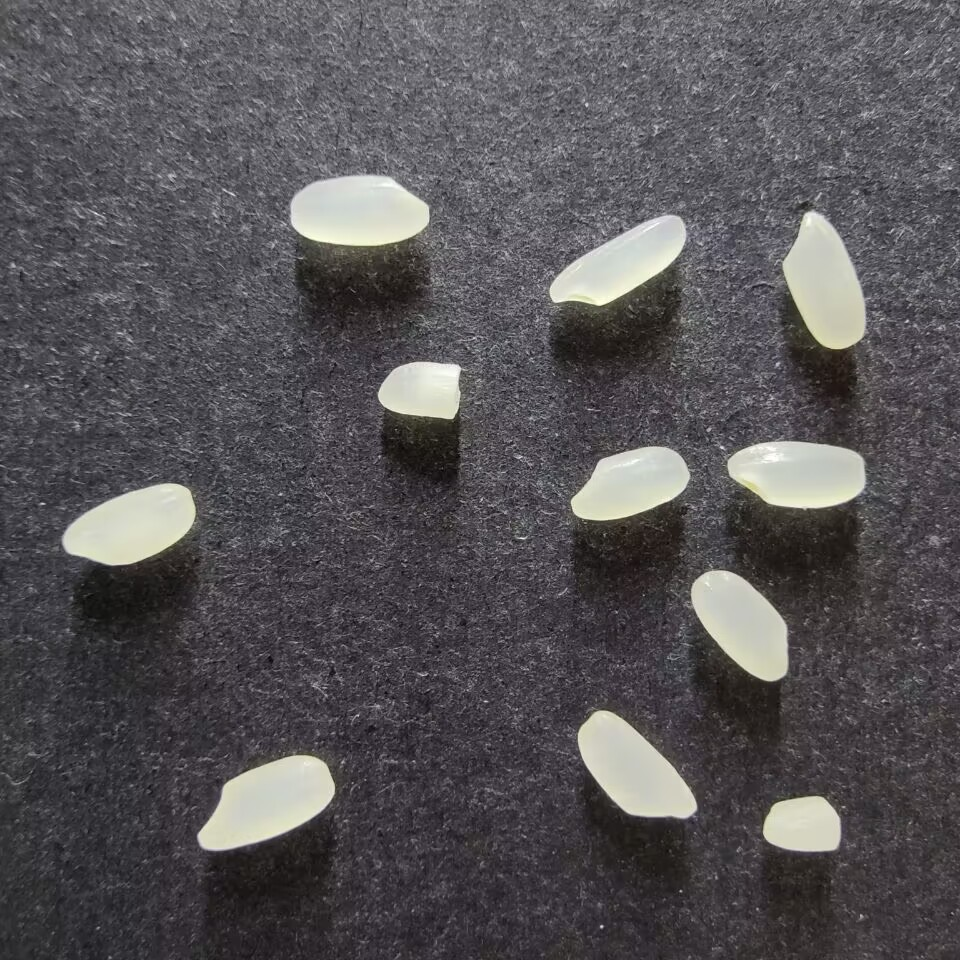broken: (376, 361, 461, 419), (762, 796, 842, 852)
rice: (576, 709, 698, 819), (197, 754, 335, 851), (548, 214, 687, 305), (780, 210, 866, 349), (60, 483, 195, 566), (690, 569, 788, 682), (289, 174, 430, 246), (726, 440, 865, 509), (570, 445, 689, 521)
